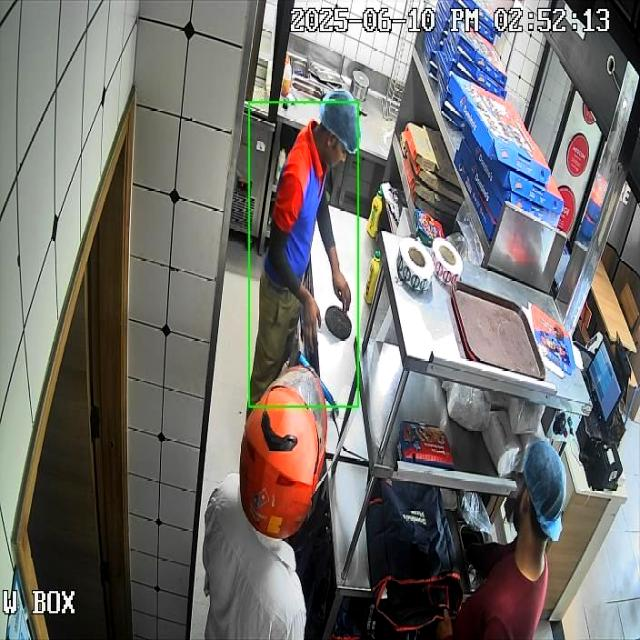helmet: (242, 363, 328, 540)
